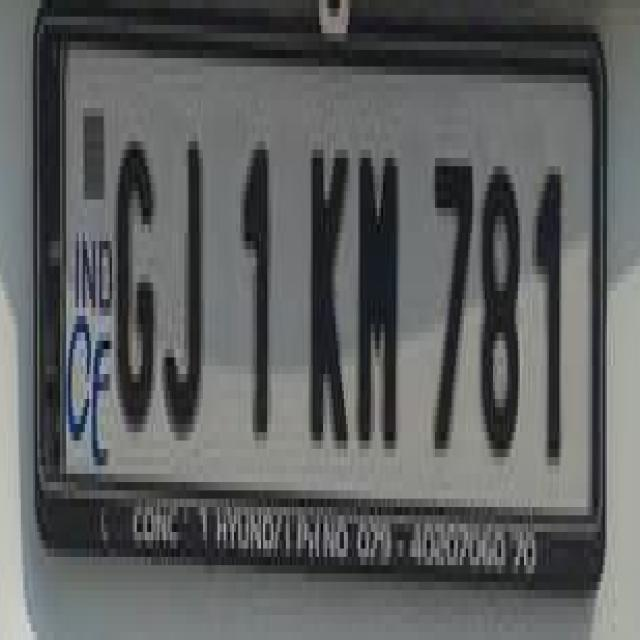license_plate: (11, 25, 616, 557)
